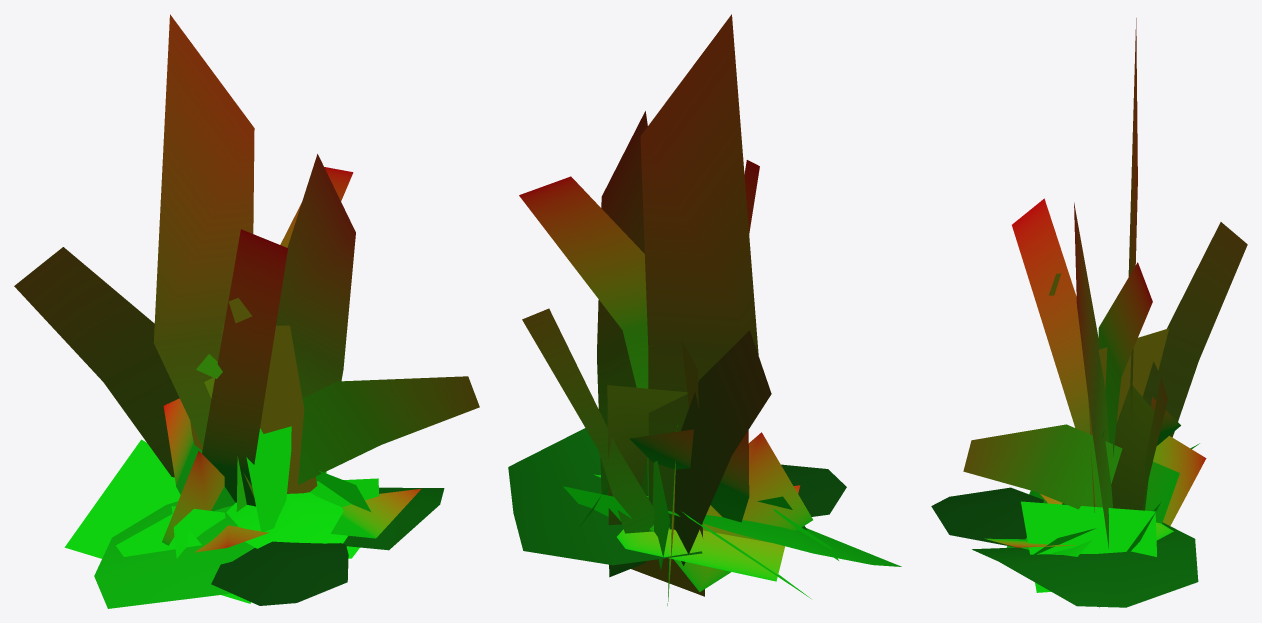
The model's file is DrySet01_Var3_LOD1.fbx.
The picture shows the model from 3 angles, left to right: view 1: azimuth 30°, elevation 25°; view 2: azimuth 150°, elevation 25°; view 3: azimuth 270°, elevation 25°; orthographic projection. The views are drawn at different scales.
Visible parts, largest first — view 1: DrySet01_Var3_LOD1; view 2: DrySet01_Var3_LOD1; view 3: DrySet01_Var3_LOD1.
Part boxes in pixels (x1,y1,x2,y2): DrySet01_Var3_LOD1: (14,14,479,608); DrySet01_Var3_LOD1: (508,14,901,605); DrySet01_Var3_LOD1: (931,18,1247,607).
Bounding box in the file's own units: 70.95 × 110 × 58.25.
